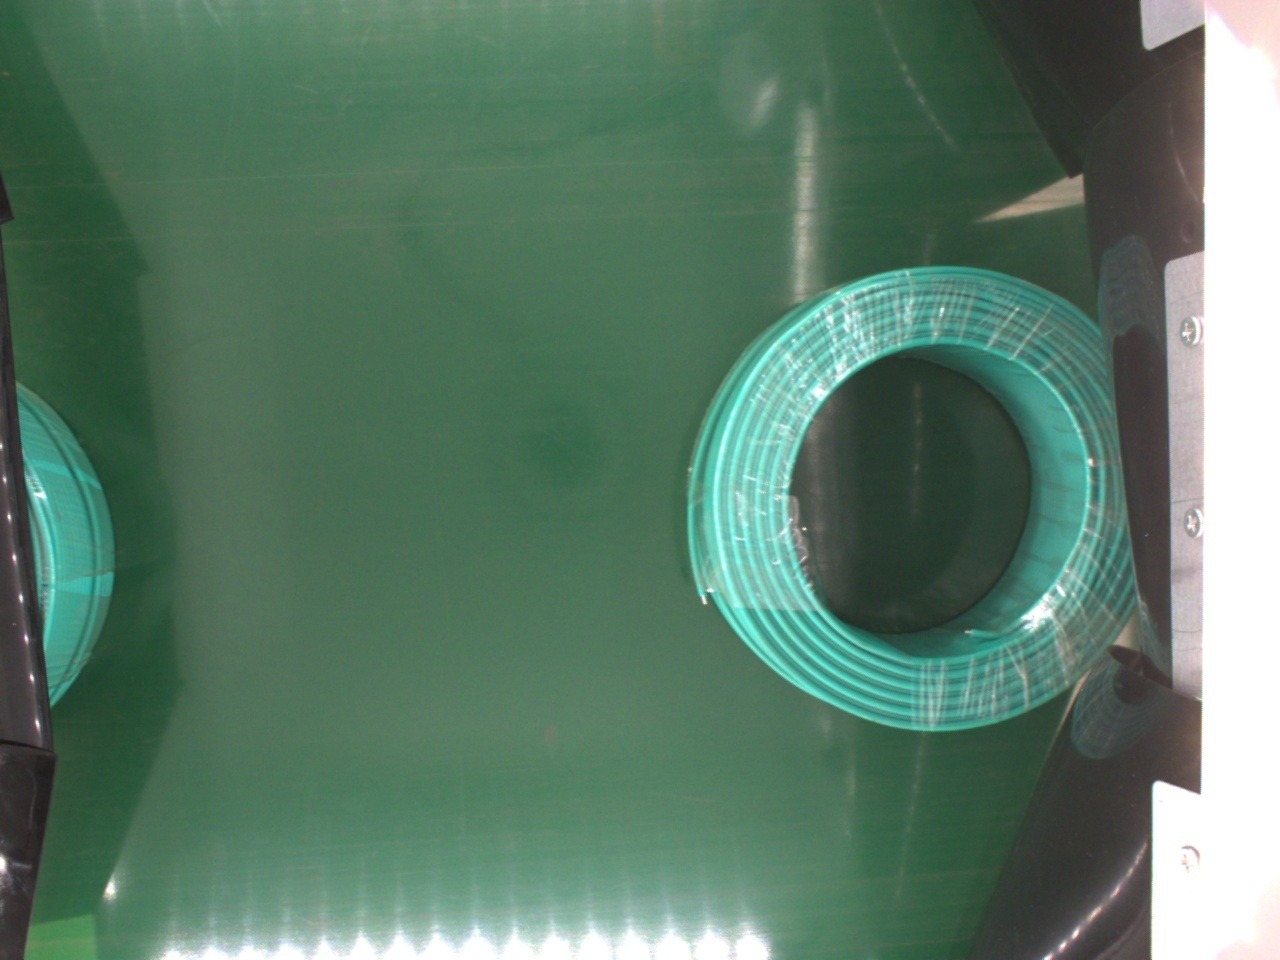green: (686, 267, 1148, 732), (13, 382, 122, 699)
